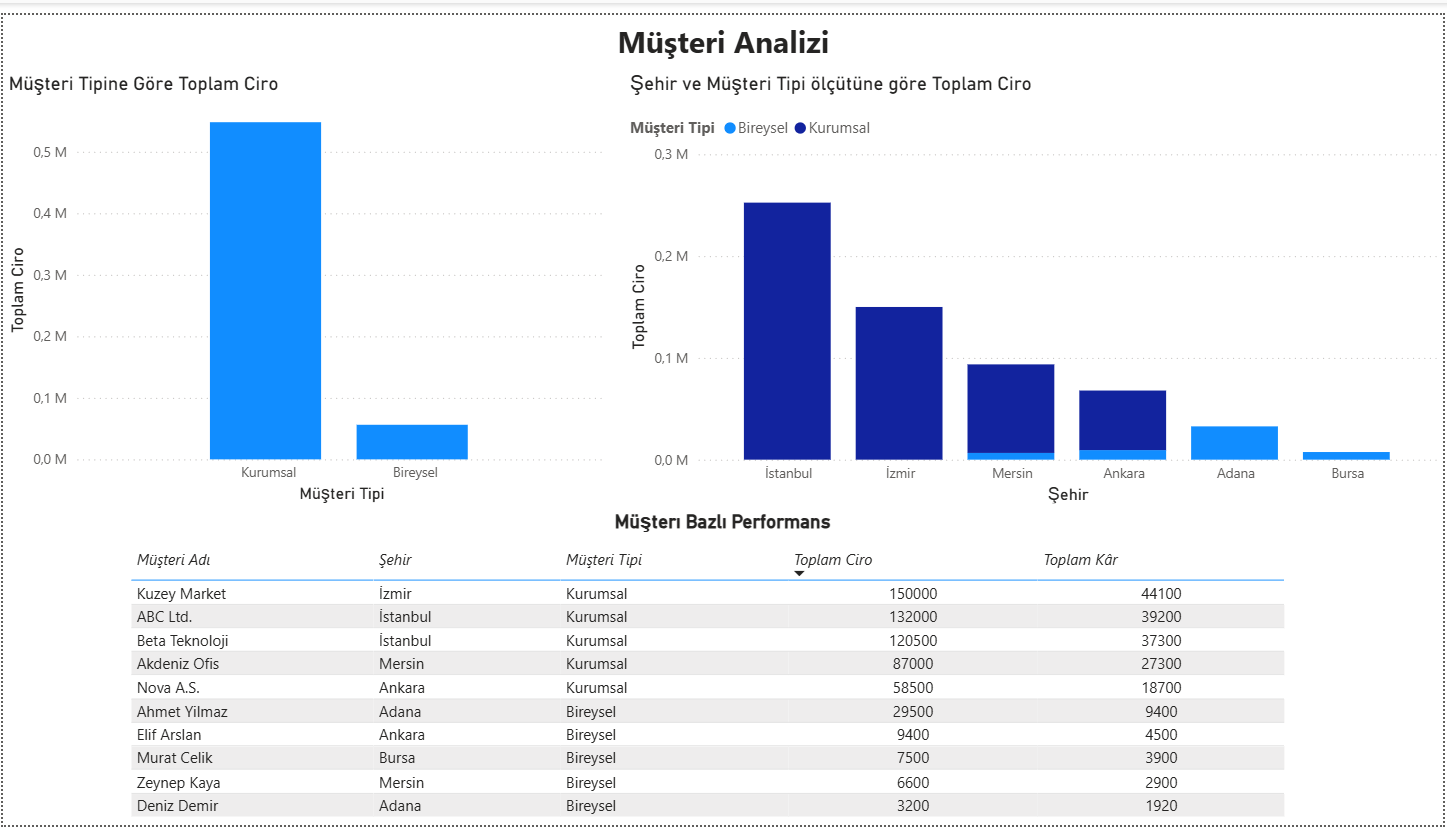

Layout of this report page (visuals, bound fields, positions):
{"tool":"powerbi","page":{"name":"Müşteri Analizi","canvas":[1280,720],"ordinal":2},"visuals":[{"type":"textbox","box":[0,0,1280.3,49.8],"z":0},{"type":"columnChart","title":"Müşteri Tipine Göre Toplam Ciro","fields":{"Category":["ana_satis_verisi.Müşteri Tipi"],"Y":["Sum(ana_satis_verisi.Ciro)"]},"box":[0,49.8,541.2,388.8],"z":1},{"type":"tableEx","title":"Müşterı Bazlı Performans","fields":{"Values":["ana_satis_verisi.Müşteri Adı","ana_satis_verisi.Şehir","ana_satis_verisi.Müşteri Tipi","Sum(ana_satis_verisi.Ciro)","Sum(ana_satis_verisi.Kâr)"]},"box":[108.2,438.6,1063.8,282],"z":3},{"type":"columnChart","fields":{"Category":["ana_satis_verisi.Şehir"],"Y":["Sum(ana_satis_verisi.Ciro)"],"Series":["ana_satis_verisi.Müşteri Tipi"]},"box":[552.6,49.8,727.7,388.8],"z":4}]}

Visuals, with their boxes in screenshot pixels (x1, y1, x2, y2), scaled from the page's 1280x720 canvas onto the 1447x830 screenshot:
textbox: box(0, 0, 1446, 57)
"Müşteri Tipine Göre Toplam Ciro" columnChart: box(0, 57, 612, 506)
"Müşterı Bazlı Performans" tableEx: box(122, 506, 1325, 829)
columnChart - ana_satis_verisi.Şehir x Sum(ana_satis_verisi.Ciro): box(625, 57, 1446, 506)
